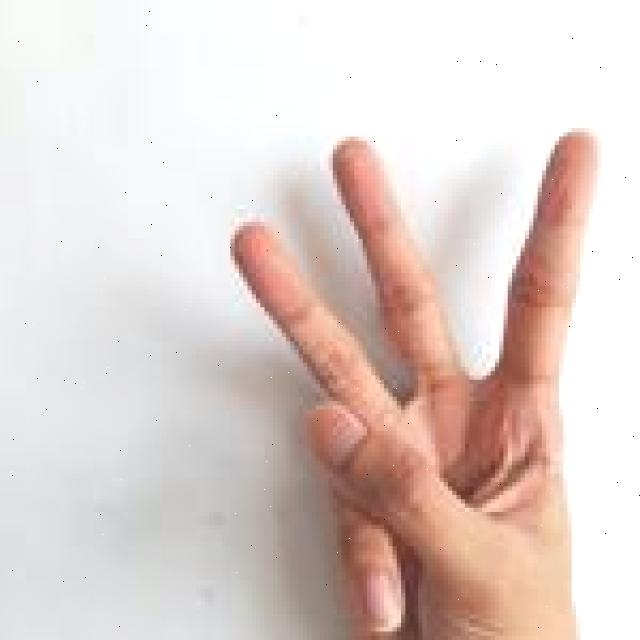W: (214, 120, 604, 640)
